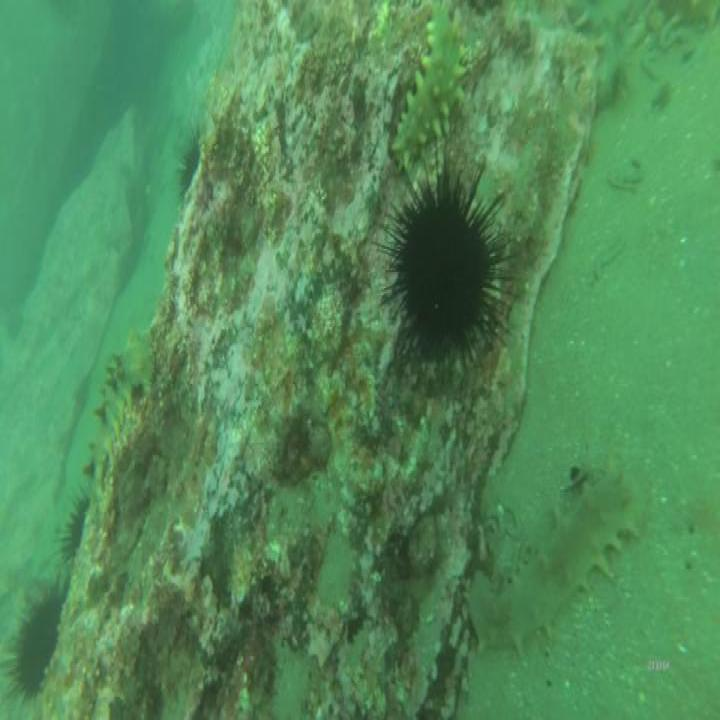echinus: (370, 155, 519, 393), (1, 583, 65, 704)
holothurian: (459, 464, 638, 667), (397, 2, 471, 181)
